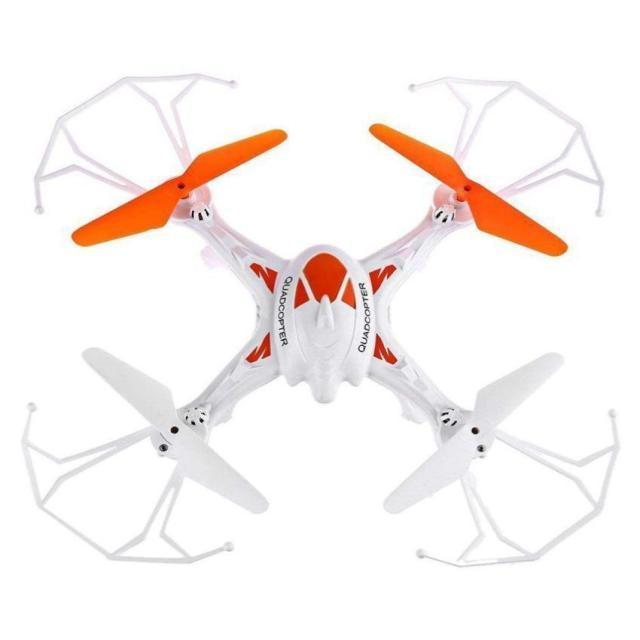drone: (27, 76, 620, 558)
